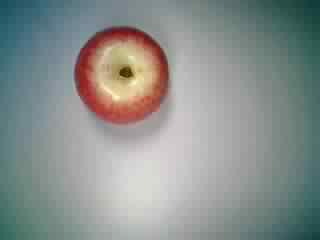apple: (70, 21, 174, 125)
